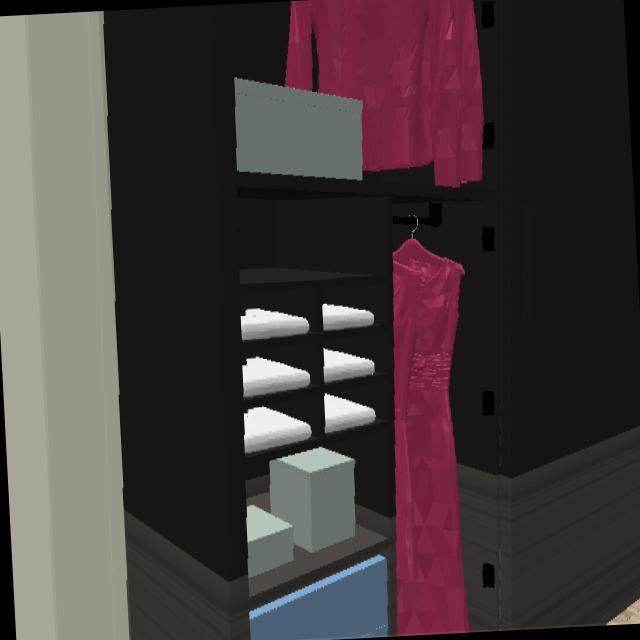wardrobe: (103, 0, 640, 640)
